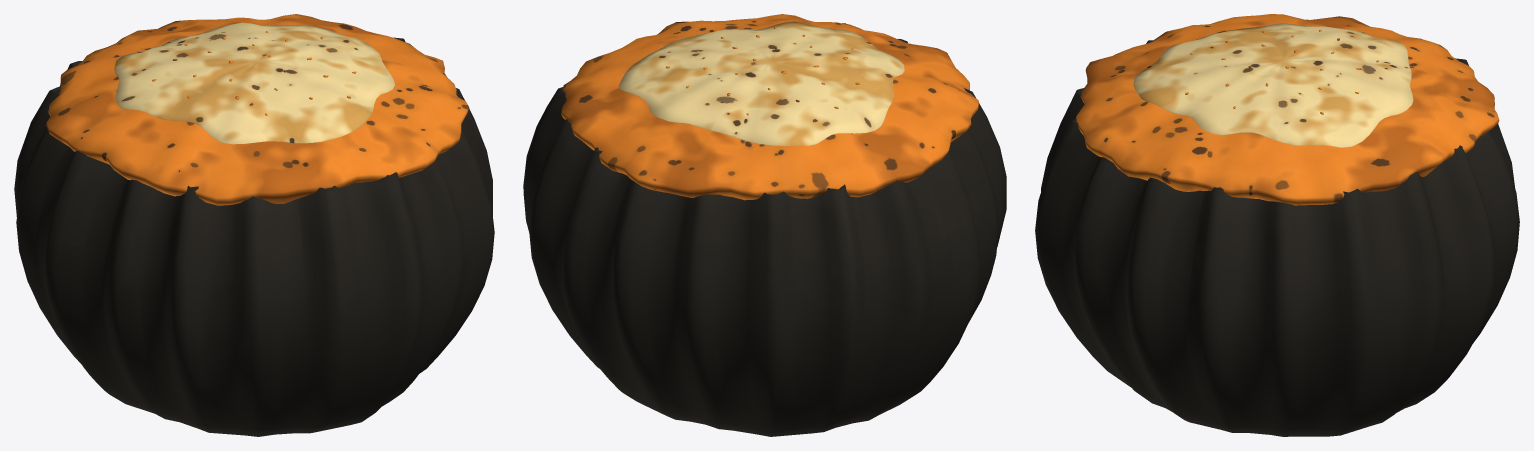
File: kalili-black-series.glb
3 renders of one model, left to right at view 1: azimuth 30°, elevation 25°; view 2: azimuth 150°, elevation 25°; view 3: azimuth 270°, elevation 25°, orthographic.
Visible parts, largest first — view 1: wrapper_shell, topping_cap, cheese_surface; view 2: wrapper_shell, topping_cap, cheese_surface; view 3: wrapper_shell, topping_cap, cheese_surface.
Part boxes in pixels (x1,y1,x2,y2): wrapper_shell: (14, 37, 494, 436); topping_cap: (46, 14, 469, 205); cheese_surface: (114, 22, 394, 144); wrapper_shell: (523, 23, 1006, 436); topping_cap: (561, 14, 978, 200); cheese_surface: (619, 22, 904, 146); wrapper_shell: (1035, 38, 1519, 436); topping_cap: (1076, 14, 1499, 205); cheese_surface: (1133, 23, 1413, 147).
Size of the model in its own units: 0.06 by 0.0422 by 0.0596.
1 material, 1 textured.
